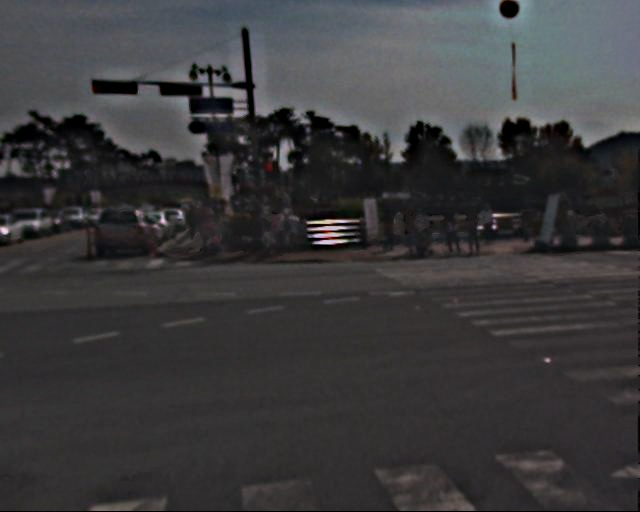person: (185, 204, 223, 237), (447, 207, 469, 261), (409, 208, 431, 261), (254, 207, 275, 259), (470, 211, 491, 261), (277, 206, 297, 254), (484, 206, 505, 246), (389, 207, 407, 250)
